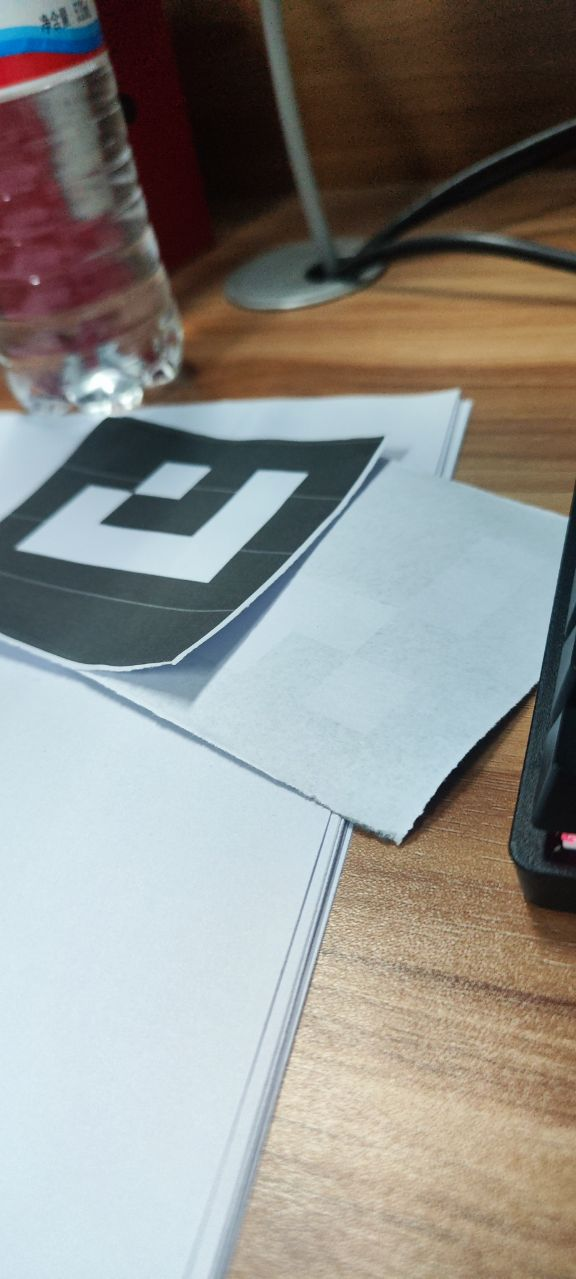mark1: (14, 452, 314, 589)
